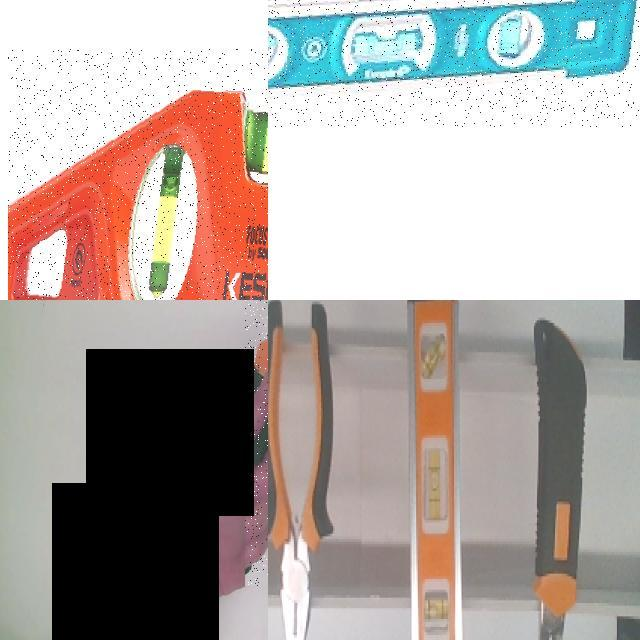estilete: (534, 319, 586, 639)
